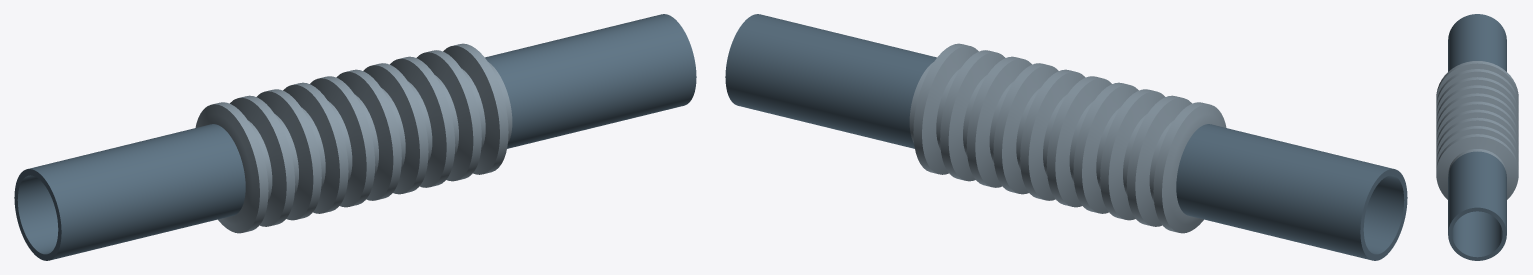
The model's file is silf-dn32-L330-D42_4.glb.
3 views of the same model, side by side, from view 1: azimuth 30°, elevation 25°; view 2: azimuth 150°, elevation 25°; view 3: azimuth 270°, elevation 25° (orthographic). The views are drawn at different scales.
Parts seen in each view (by area): view 1: prokladka_silfon_1, patrubok_1, patrubok_2; view 2: prokladka_silfon_1, patrubok_1, patrubok_2; view 3: prokladka_silfon_1, patrubok_2, patrubok_1.
Part boxes in pixels (x1=…): prokladka_silfon_1: x1=195, y1=43, x2=512, y2=233; patrubok_1: x1=14, y1=124, x2=245, y2=260; patrubok_2: x1=485, y1=14, x2=696, y2=148; prokladka_silfon_1: x1=909, y1=43, x2=1226, y2=233; patrubok_1: x1=1176, y1=124, x2=1407, y2=260; patrubok_2: x1=725, y1=14, x2=936, y2=148; prokladka_silfon_1: x1=1436, y1=61, x2=1518, y2=199; patrubok_2: x1=1448, y1=151, x2=1506, y2=260; patrubok_1: x1=1448, y1=14, x2=1506, y2=71.
Bounding box in the file's own units: 330 × 59.49 × 59.49.
